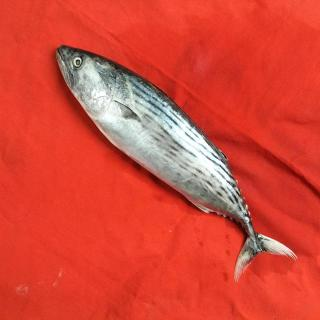Ikan: (51, 42, 299, 295)
